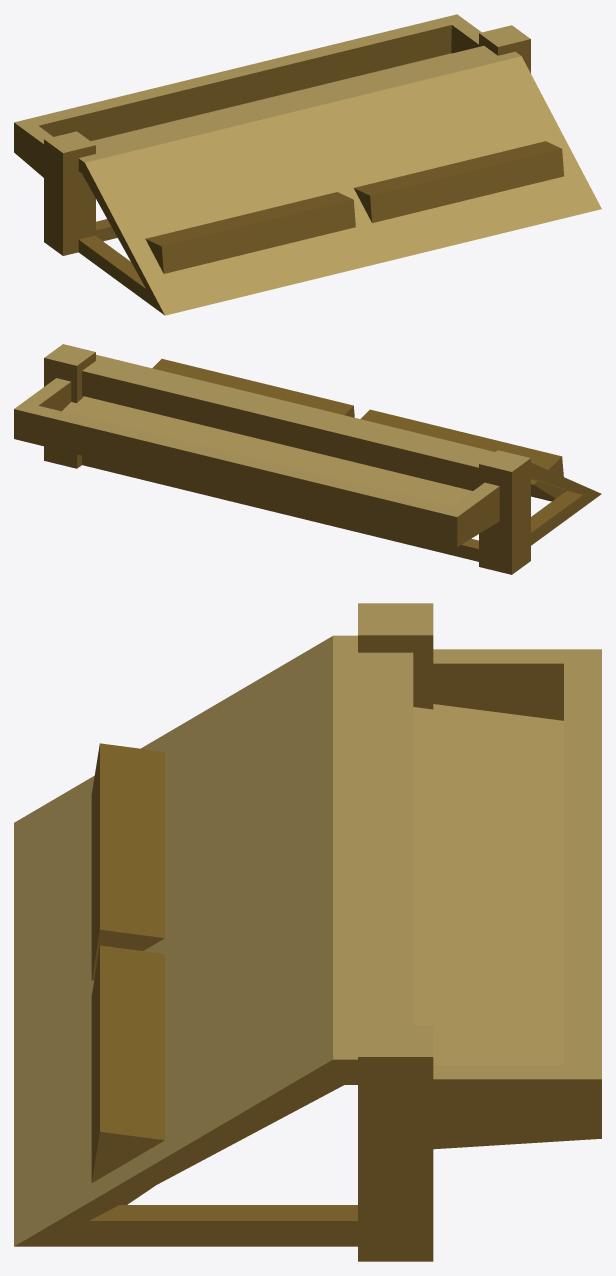
Rendered from bench.fbx.
3 renders of one model, top to bottom at view 1: azimuth 30°, elevation 25°; view 2: azimuth 150°, elevation 25°; view 3: azimuth 270°, elevation 25°, orthographic. The views are drawn at different scales.
Parts seen in each view (by area): view 1: bench.001, bench.005, marche_pied.003, marche_pied.001, bench.002, bench.006, bench.003, bench; view 2: bench.001, bench.004, bench.005, bench.002, marche_pied.003, marche_pied.001, bench.003, bench.006, bench; view 3: bench.001, bench.004, bench.003, bench.005, marche_pied.001, marche_pied.003, bench, bench.006, bench.002.
Boxes of the visible parts, left/top/right/bottom form: bench.001: left=78, top=46, right=601, bottom=315; bench.005: left=14, top=14, right=456, bottom=141; marche_pied.003: left=145, top=192, right=355, bottom=273; marche_pied.001: left=354, top=141, right=564, bottom=222; bench.002: left=44, top=131, right=95, bottom=255; bench.006: left=14, top=122, right=52, bottom=177; bench.003: left=479, top=25, right=530, bottom=73; bench: left=451, top=14, right=481, bottom=53; bench.001: left=82, top=354, right=601, bottom=561; bench.004: left=14, top=396, right=472, bottom=546; bench.005: left=14, top=405, right=457, bottom=535; bench.002: left=479, top=450, right=530, bottom=574; marche_pied.003: left=360, top=409, right=564, bottom=501; marche_pied.001: left=152, top=359, right=354, bottom=417; bench.003: left=44, top=344, right=95, bottom=468; bench.006: left=452, top=482, right=499, bottom=546; bench: left=14, top=378, right=71, bottom=411; bench.001: left=14, top=635, right=413, bottom=1246; bench.004: left=413, top=704, right=563, bottom=1064; bench.003: left=358, top=1025, right=433, bottom=1261; bench.005: left=564, top=649, right=601, bottom=1078; marche_pied.001: left=91, top=945, right=164, bottom=1204; marche_pied.003: left=91, top=743, right=164, bottom=980; bench: left=433, top=1065, right=601, bottom=1149; bench.006: left=433, top=649, right=601, bottom=720; bench.002: left=358, top=603, right=433, bottom=709.
Bounding box in the file's own units: 18.73 × 10.26 × 4.05.
